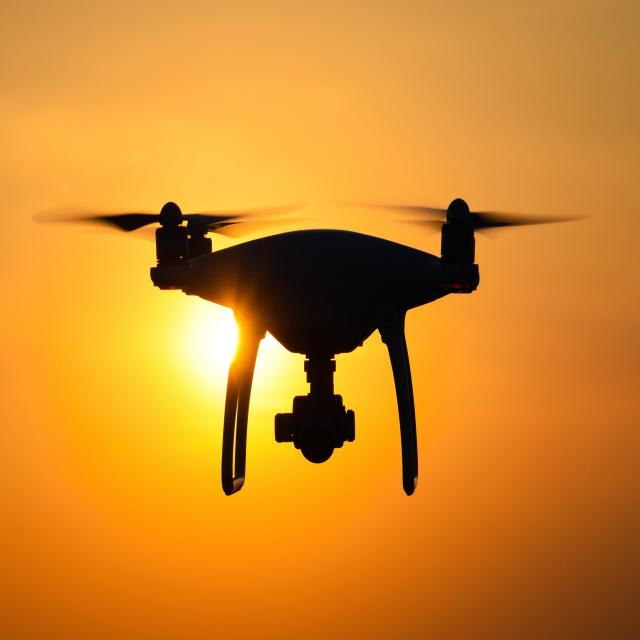drone: (57, 178, 610, 390)
